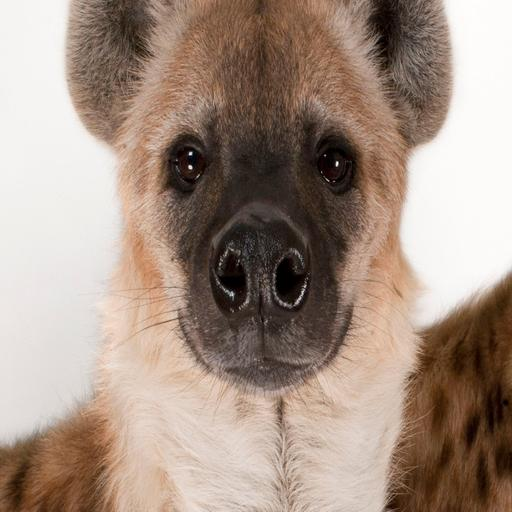Hyena: (62, 0, 452, 512)
